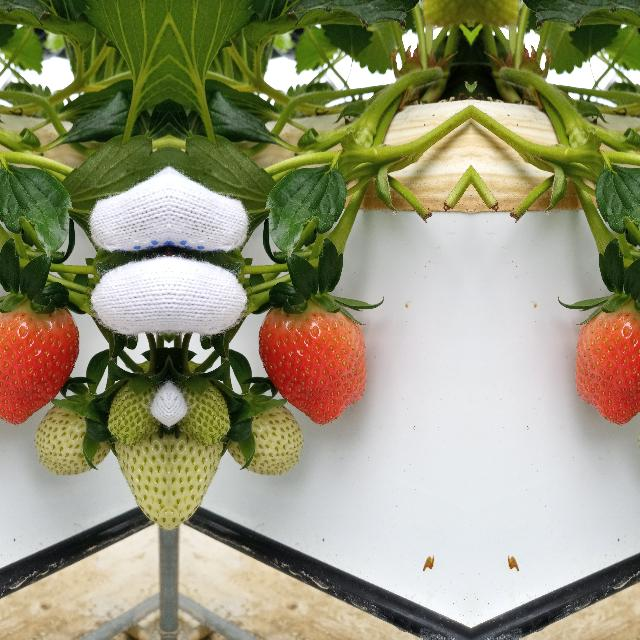Health_100: (256, 300, 366, 426), (0, 300, 80, 426), (575, 300, 640, 426)
Health_25: (225, 388, 299, 484), (37, 388, 111, 484), (168, 434, 218, 532), (118, 434, 168, 532), (175, 364, 229, 436), (107, 364, 161, 436)
